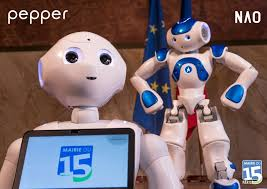nao: (126, 14, 259, 189)
